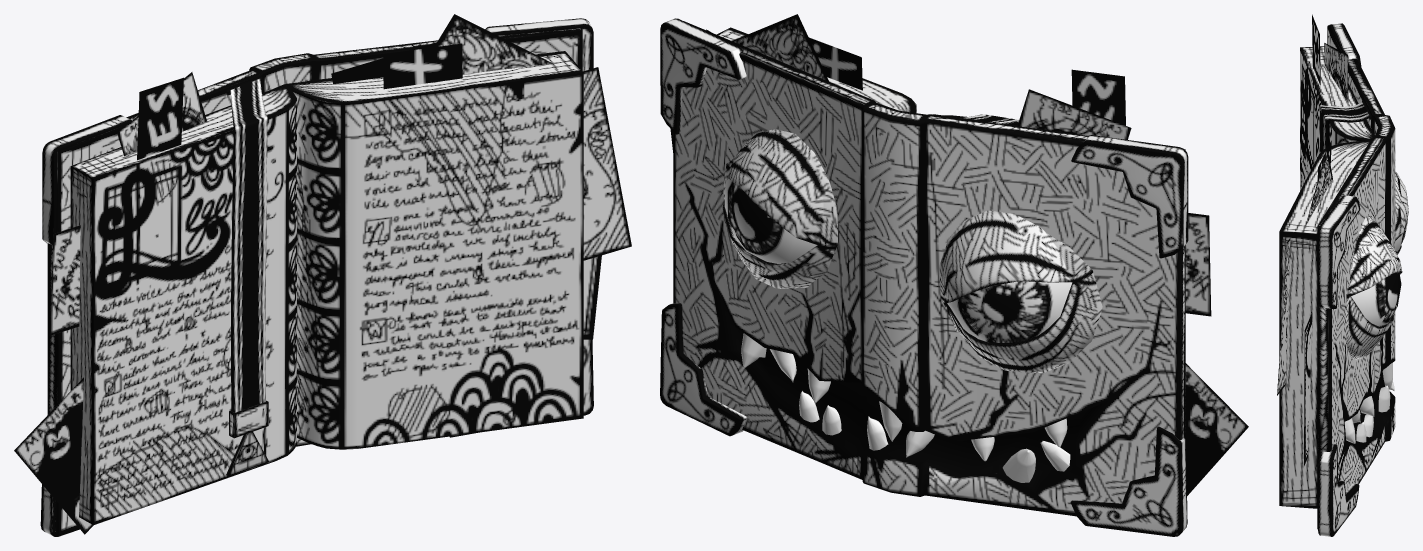
File: Day15Legend.fbx
The picture shows the model from 3 angles, left to right: view 1: azimuth 30°, elevation 25°; view 2: azimuth 150°, elevation 25°; view 3: azimuth 270°, elevation 25°; orthographic projection. The views are drawn at different scales.
Visible parts, largest first — view 1: creepyBookMesh; view 2: creepyBookMesh; view 3: creepyBookMesh.
Part boxes in pixels (x1=…): creepyBookMesh: x1=14, y1=14, x2=631, y2=536; creepyBookMesh: x1=660, y1=14, x2=1248, y2=536; creepyBookMesh: x1=1277, y1=14, x2=1408, y2=536.
Bounding box in the file's own units: 85.31 × 60.1 × 20.64.
